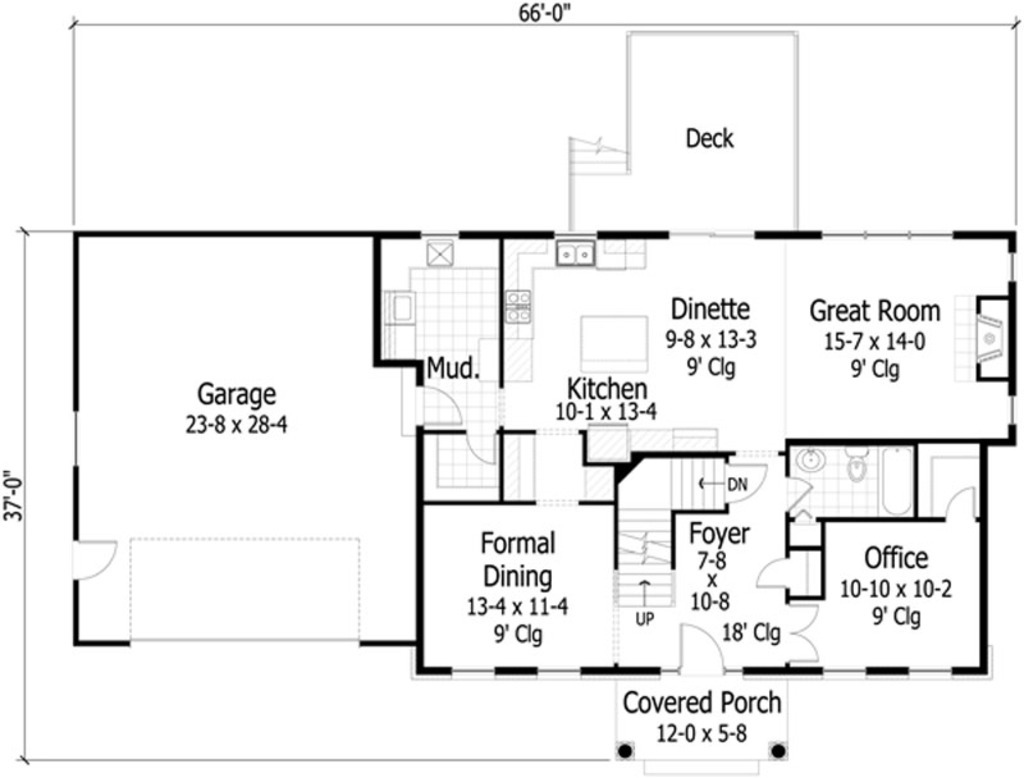door: (671, 618, 729, 676), (416, 381, 462, 433), (782, 601, 817, 664), (729, 462, 768, 509), (74, 539, 116, 580), (783, 476, 814, 519), (942, 486, 978, 522), (464, 428, 497, 466), (754, 557, 787, 591)
kitchen_bar: (576, 309, 653, 377)
large_sink: (835, 440, 870, 483)
small_sink: (784, 447, 835, 480)
stairs: (612, 452, 729, 628)
tub: (873, 443, 921, 519)
twin_sink: (553, 233, 600, 274)
windows: (816, 226, 961, 248), (663, 227, 757, 248), (901, 662, 956, 683), (534, 661, 583, 683), (818, 660, 868, 680), (446, 663, 497, 682)
